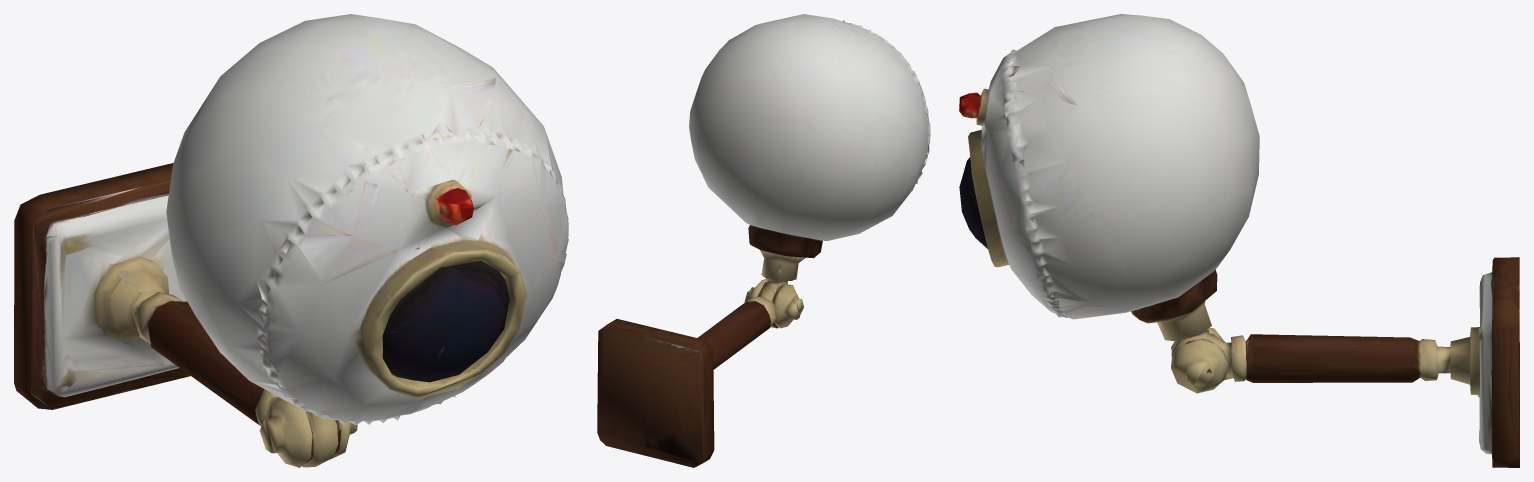
The model's file is camera.glb.
3 views of the same model, side by side, from view 1: azimuth 30°, elevation 25°; view 2: azimuth 150°, elevation 25°; view 3: azimuth 270°, elevation 25° (orthographic). The views are drawn at different scales.
Visible parts, largest first — view 1: Mesh_0; view 2: Mesh_0; view 3: Mesh_0.
Part boxes in pixels (x1,y1,x2,y2): Mesh_0: (14,14,568,467); Mesh_0: (597,14,930,467); Mesh_0: (959,14,1519,467).
Bounding box in the file's own units: 0.2364 × 0.35 × 0.4317.
1 material, 1 textured.
